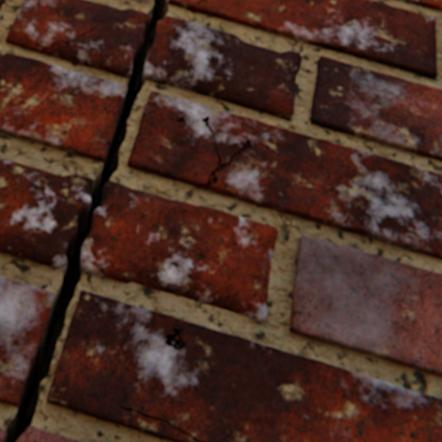brick: (47, 290, 441, 441), (128, 91, 441, 259), (289, 235, 441, 375), (168, 0, 435, 78), (0, 51, 126, 161), (310, 56, 441, 161), (0, 275, 54, 404), (397, 0, 441, 12), (138, 0, 152, 3), (0, 0, 4, 9)
broken_brick: (82, 181, 276, 321), (144, 16, 300, 120), (7, 0, 148, 77), (0, 158, 91, 267), (16, 425, 84, 441), (0, 426, 5, 441)
crack: (2, 0, 169, 441), (201, 116, 251, 186), (119, 403, 203, 441), (165, 327, 185, 348), (73, 57, 91, 67), (48, 53, 71, 57), (175, 118, 184, 121)
